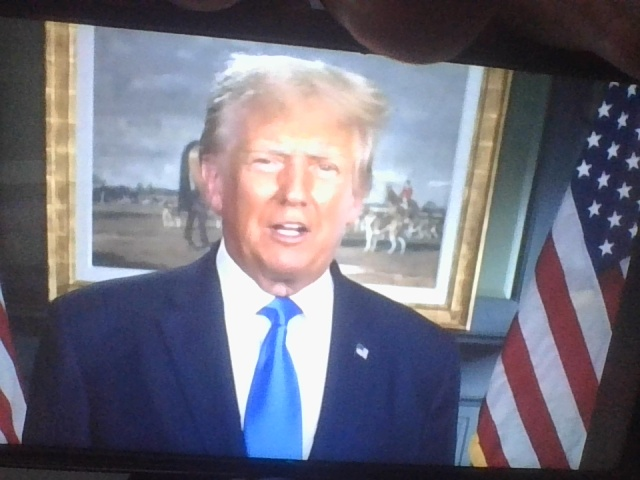fake: (203, 49, 369, 285)
